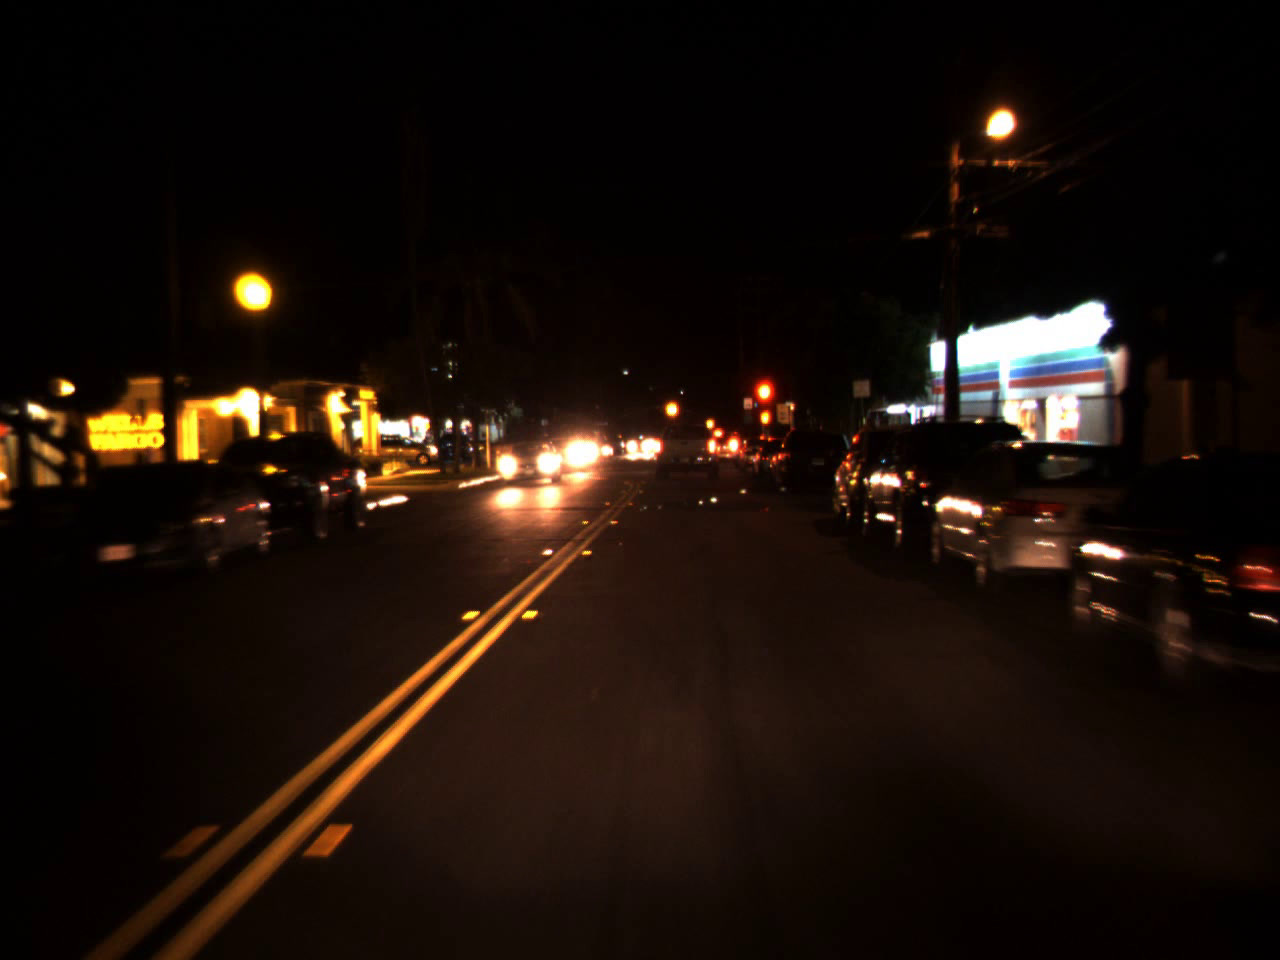stop: (750, 374, 778, 436)
warning: (661, 390, 682, 427), (703, 414, 714, 431)
